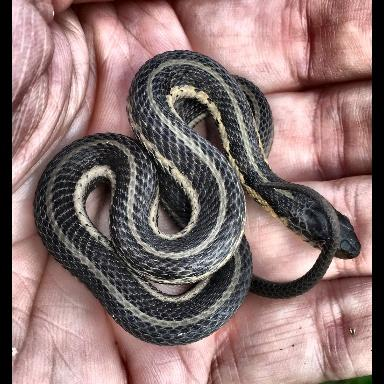snake: (32, 51, 361, 348)
